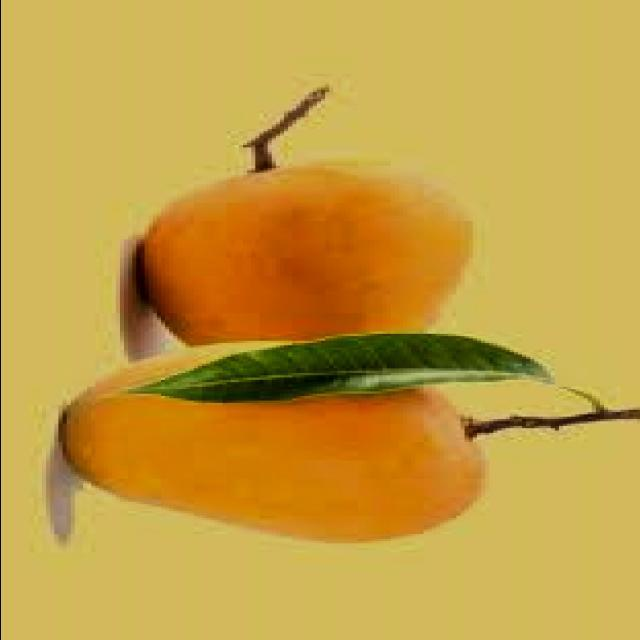leaf: (120, 330, 554, 403)
